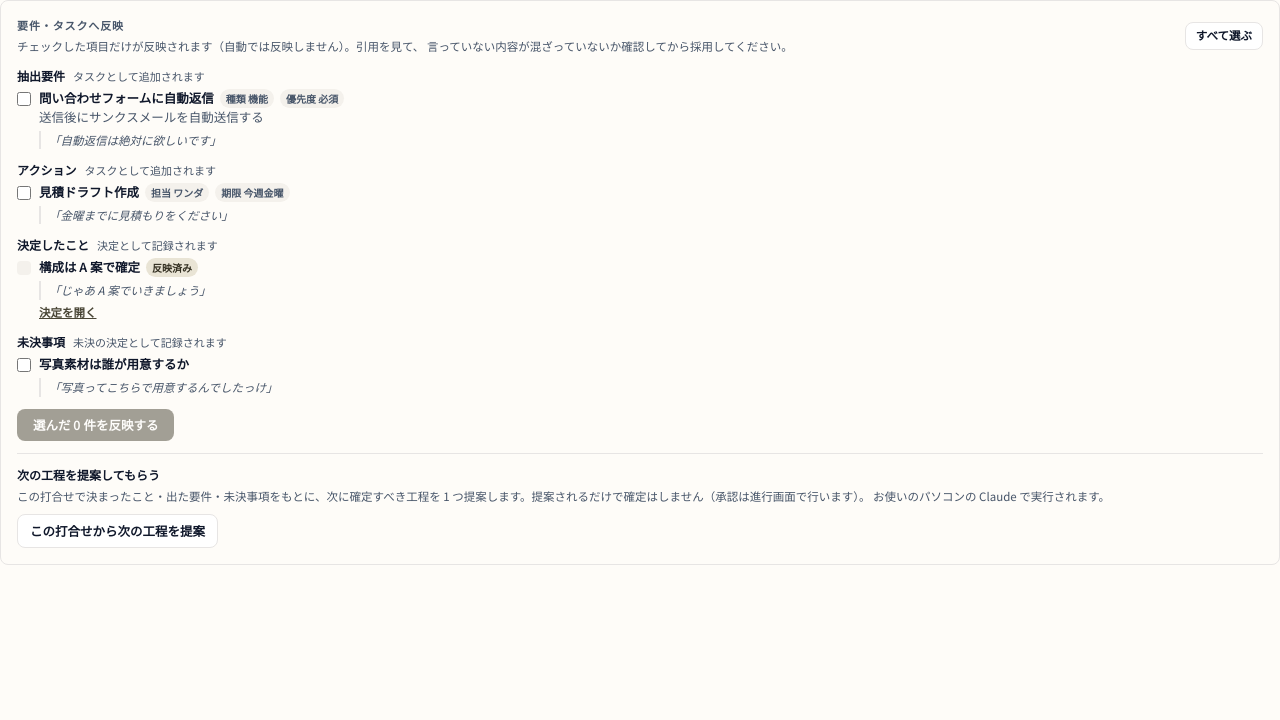
Test case: GAP-186 議事録の抽出項目の採用 › 「すべて選ぶ」は反映済みを含めない
Click the button "すべて選ぶ".
click(1224, 36)  # box [1185, 22, 1263, 50]
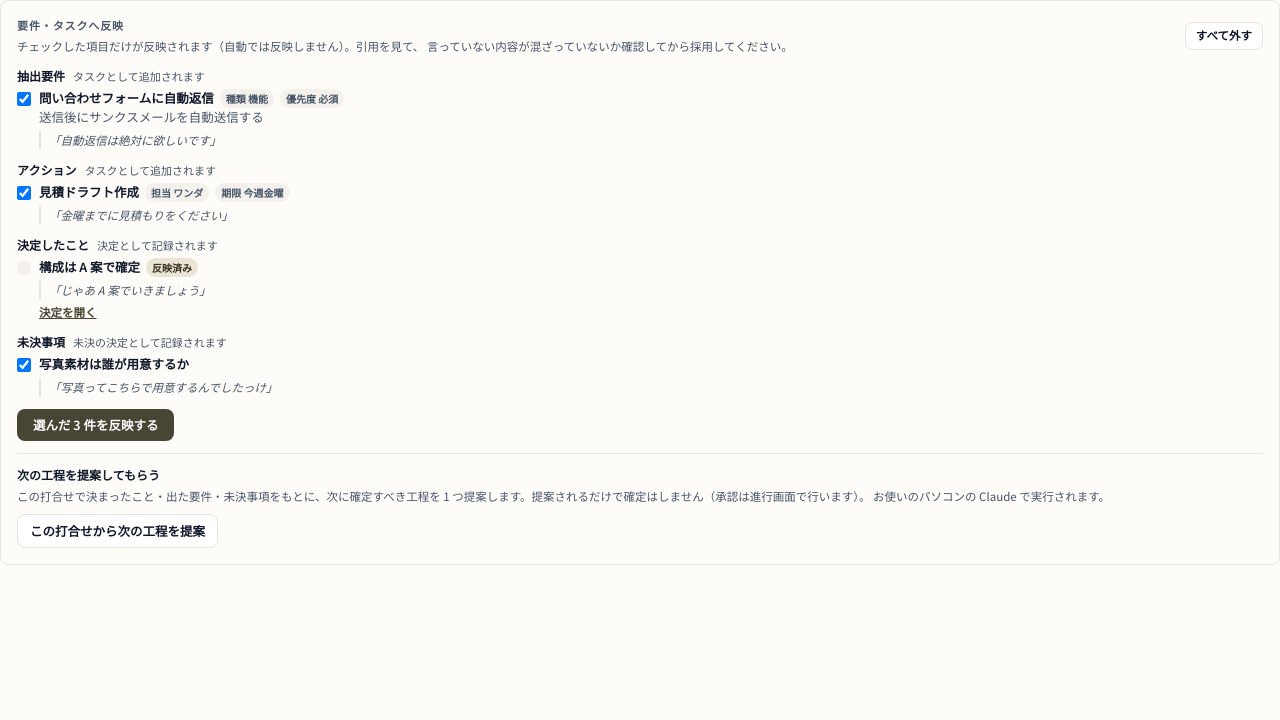
Expected: the button "選んだ 3 件を反映する" is shown, [17, 409, 174, 441]
